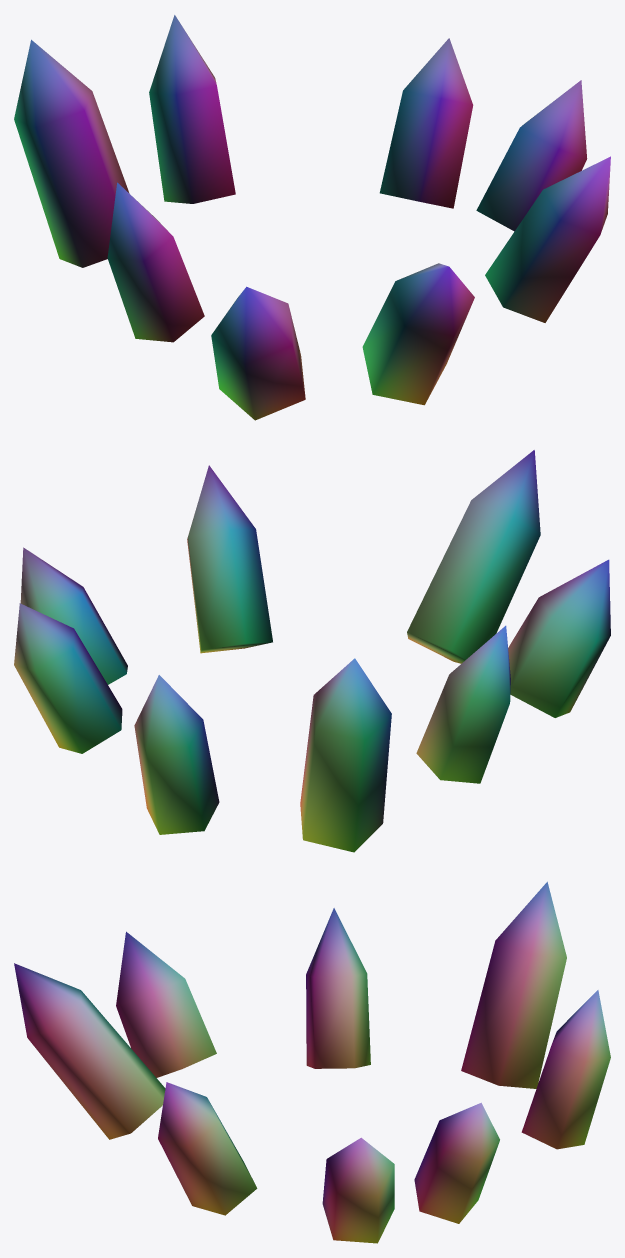
File: SM_FX_FrostCrust.fbx
3 renders of one model, top to bottom at view 1: azimuth 30°, elevation 25°; view 2: azimuth 150°, elevation 25°; view 3: azimuth 270°, elevation 25°, orthographic. The views are drawn at different scales.
Visible parts, largest first — view 1: SM_FX_FrostCrust; view 2: SM_FX_FrostCrust; view 3: SM_FX_FrostCrust.
Boxes of the visible parts, x1,y1,x2,y2 form: SM_FX_FrostCrust: (14, 15, 610, 420); SM_FX_FrostCrust: (14, 450, 610, 852); SM_FX_FrostCrust: (14, 881, 610, 1243).
Bounding box in the file's own units: 0.6789 × 0.294 × 0.8147.
